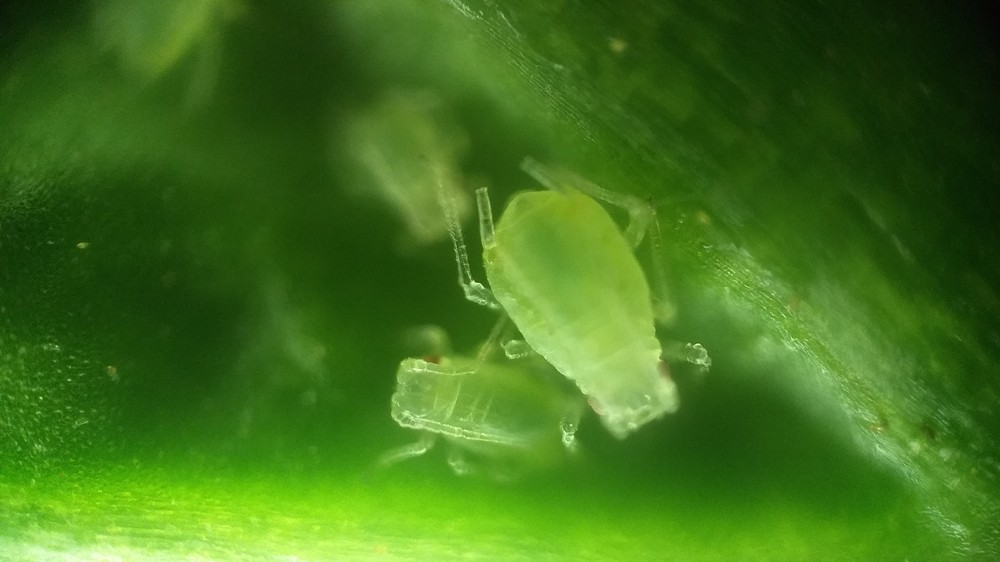Pulgon: (446, 163, 744, 450), (367, 321, 632, 493)
